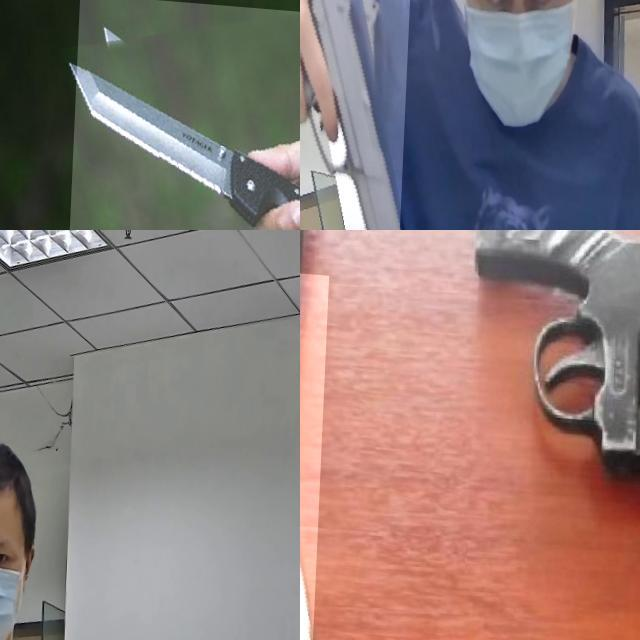-: (68, 0, 300, 230), (300, 265, 363, 640)
gun-knife-thesis - v11 Yolov5 augmented: (300, 0, 414, 230), (0, 281, 52, 489)
